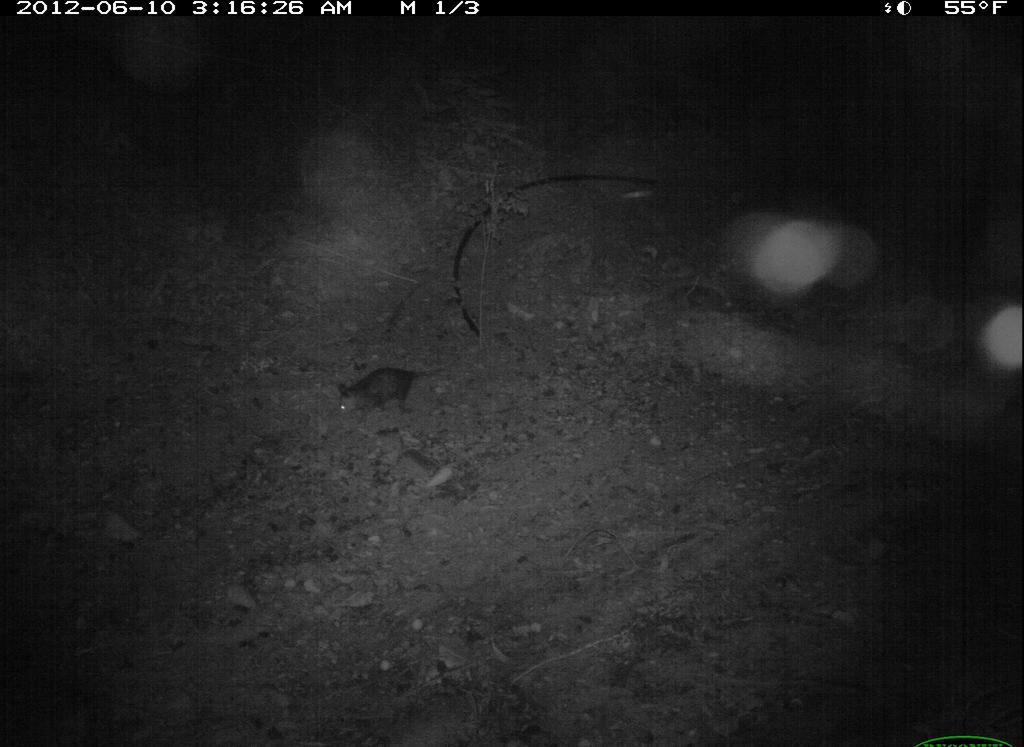opossum: (325, 353, 461, 436)
